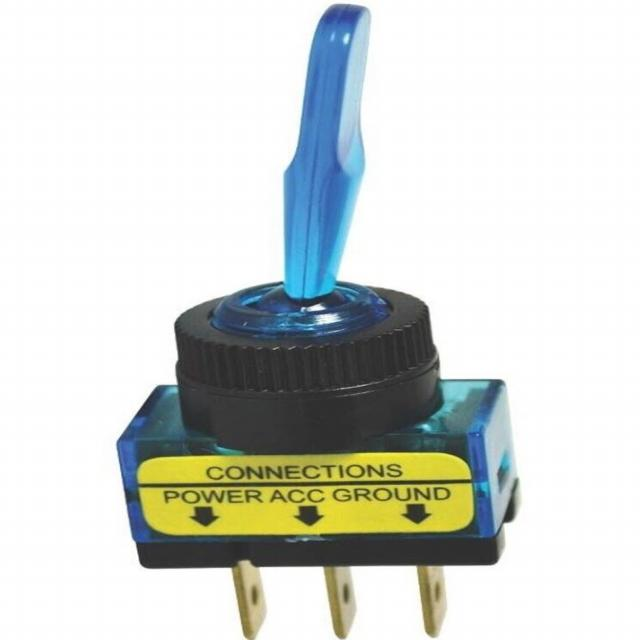toggle switch: (171, 3, 450, 455)
